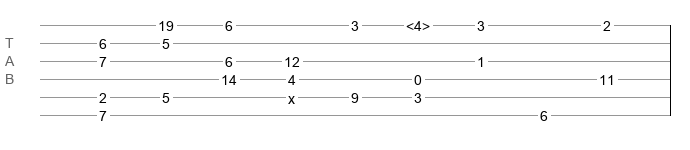0: (414, 72, 422, 82)
1: (477, 54, 485, 64)
11: (599, 72, 615, 82)
12: (284, 54, 300, 64)
14: (221, 72, 237, 82)
19: (158, 18, 174, 28)
2: (99, 90, 107, 100), (603, 18, 611, 28)
3: (351, 18, 359, 28), (414, 90, 422, 100), (477, 18, 485, 28)
4: (288, 72, 296, 82)
5: (162, 90, 170, 100), (162, 36, 170, 46)
6: (99, 36, 107, 46), (225, 54, 233, 64), (225, 18, 233, 28), (540, 108, 548, 118)
7: (99, 108, 107, 118), (99, 54, 107, 64)
9: (351, 90, 359, 100)
harmonic: (406, 18, 430, 28)
x: (288, 91, 295, 99)
